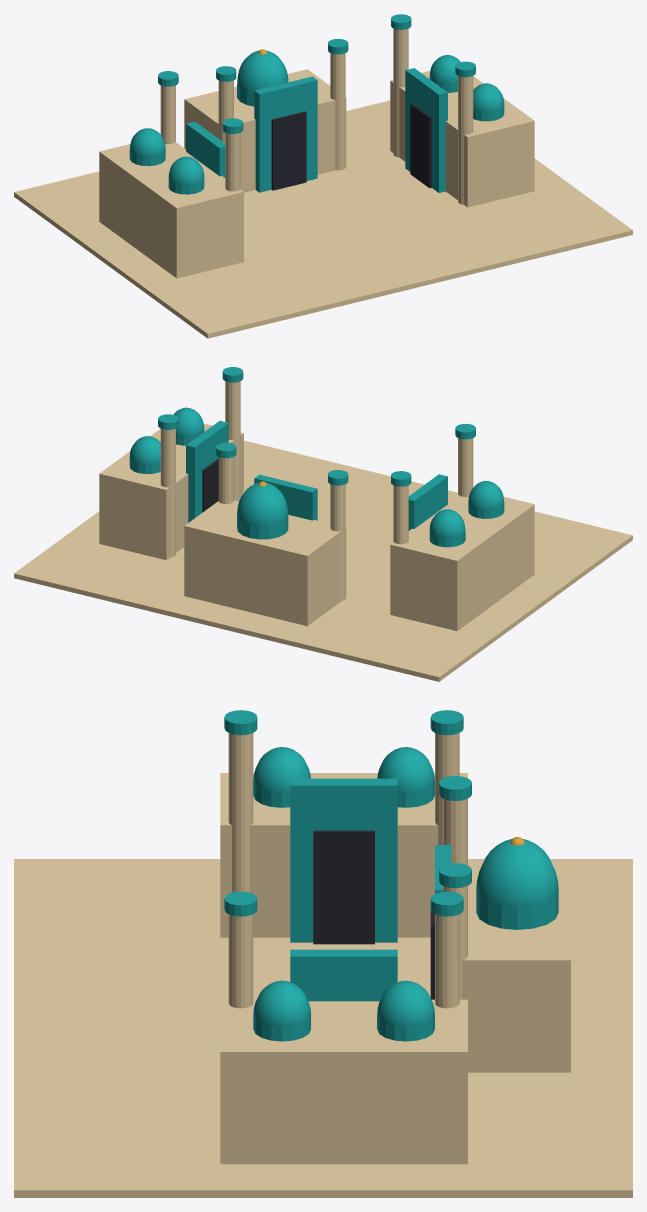
Rendered from registan.glb.
3 renders of one model, top to bottom at view 1: azimuth 30°, elevation 25°; view 2: azimuth 150°, elevation 25°; view 3: azimuth 270°, elevation 25°, orthographic. The views are drawn at different scales.
Bounding box in the file's own units: 1.9 × 0.6 × 1.5.
